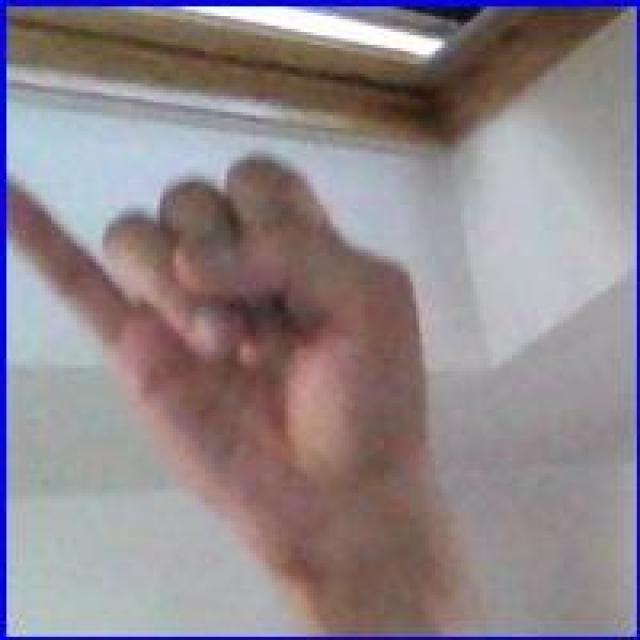J: (11, 96, 485, 541)
